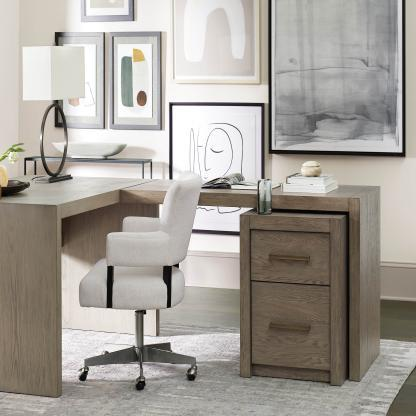chair: (74, 168, 220, 404)
light: (17, 44, 88, 184)
table: (0, 175, 385, 392)
